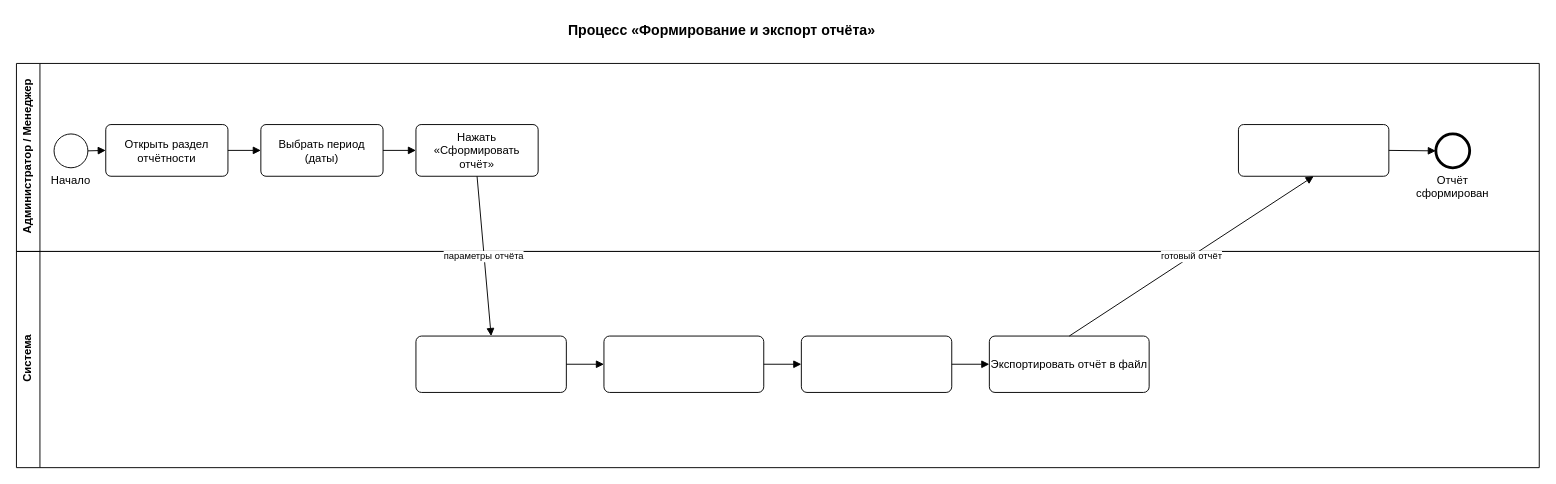
Image size: 1556x484. Some labels were removed from this diagram. Each missing label, with the centre of its shape:
"Выбрать бронирования за период" goes at [490,363].
"Просмотр и скачивание отчёта" goes at [1313,150].
"Рассчитать показатели (брони, загрузка, доход)" goes at [683,363].
"Сформировать таблицы и графики" goes at [876,363].
